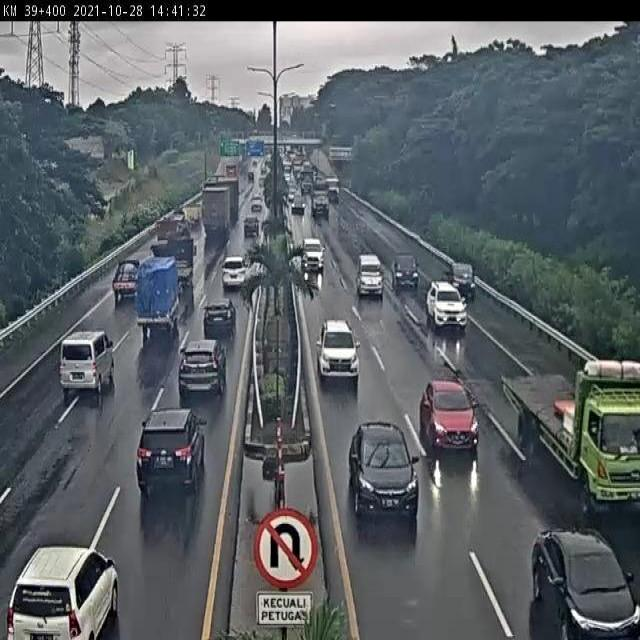car: (530, 528, 640, 640), (7, 544, 120, 640), (348, 420, 420, 519), (135, 408, 206, 497), (420, 380, 479, 457), (59, 331, 114, 393), (316, 318, 360, 382), (178, 339, 226, 397), (424, 280, 467, 331), (202, 297, 237, 336), (112, 256, 142, 301), (442, 261, 476, 300), (357, 255, 383, 296), (391, 253, 419, 291), (220, 256, 247, 287), (301, 237, 324, 271)
mid truck: (501, 357, 640, 512)
truck-m-: (137, 254, 180, 334), (158, 237, 195, 299), (151, 219, 178, 256)
